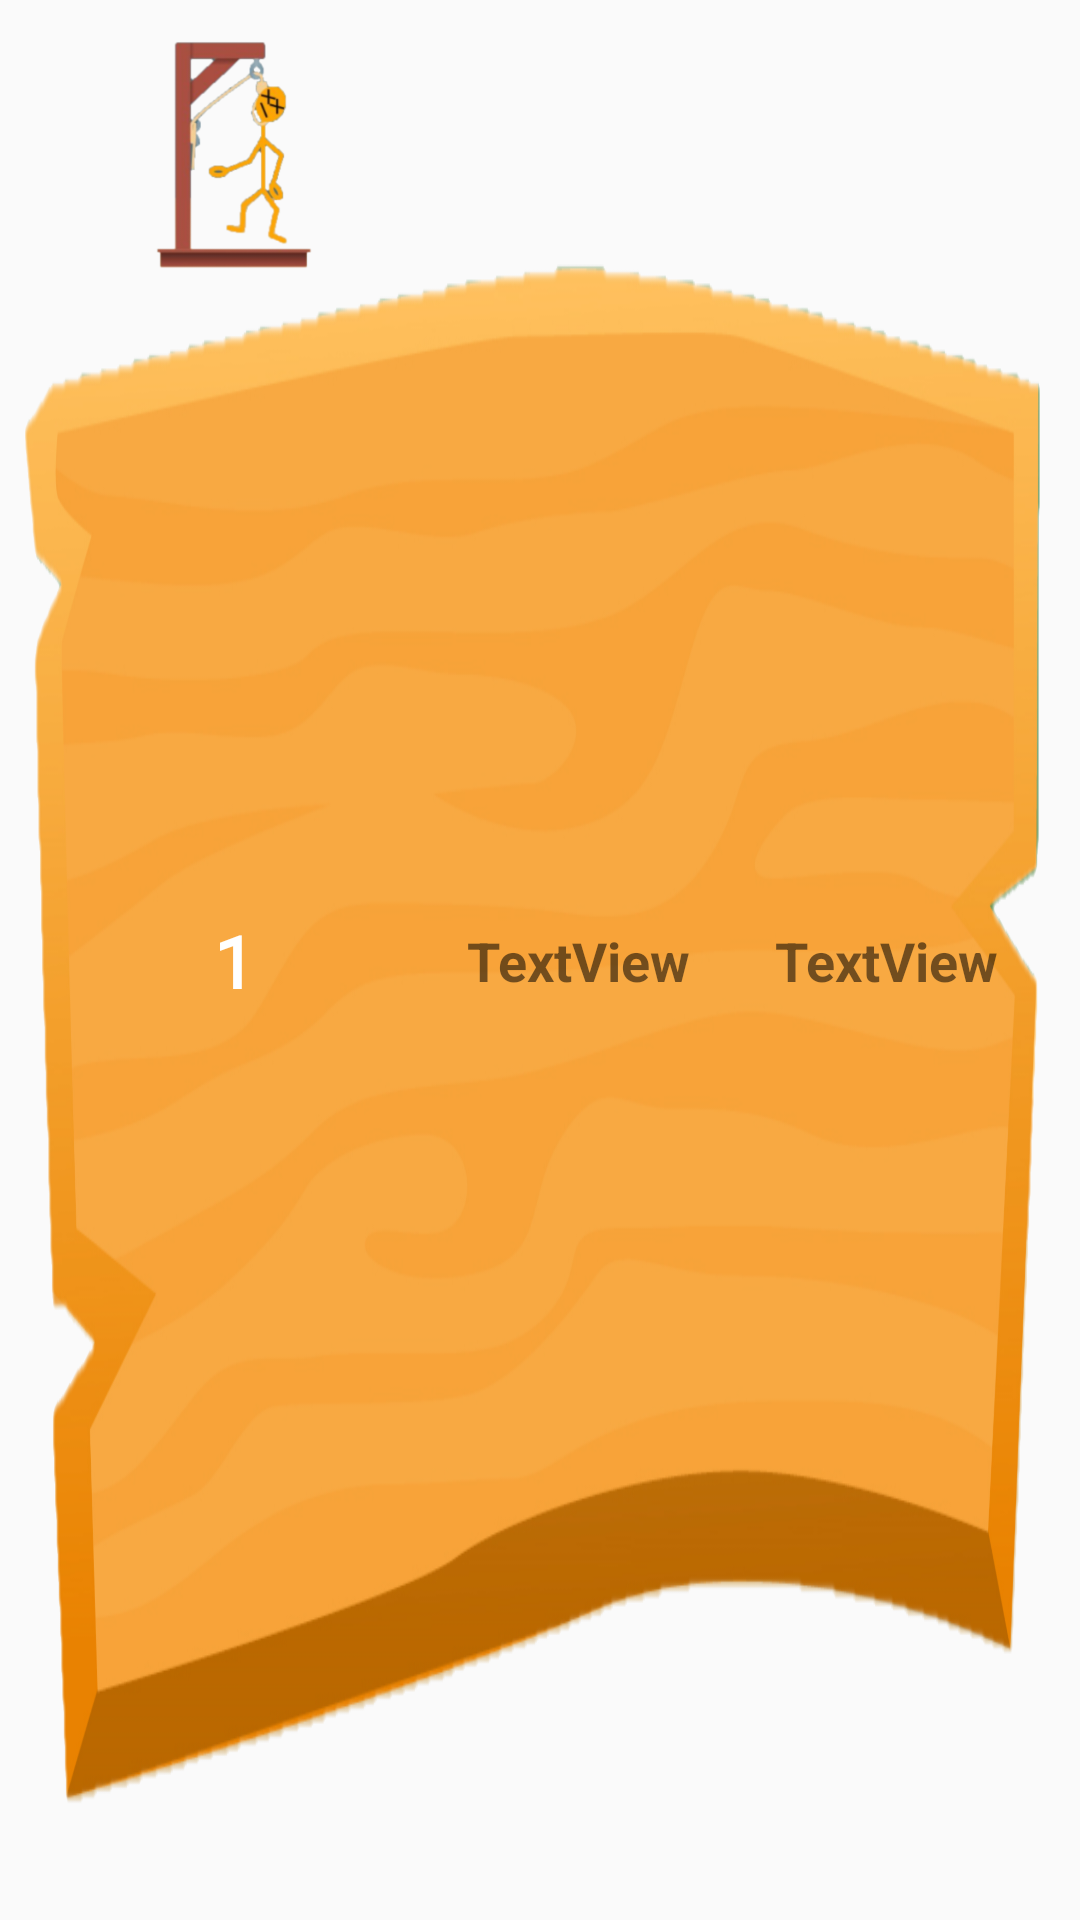

Locate icon controls on the screen. Image size 1080 x 1920, boxes as Rect(x1, y1, x2, y2).
forkert: Rect(157, 42, 311, 268)
